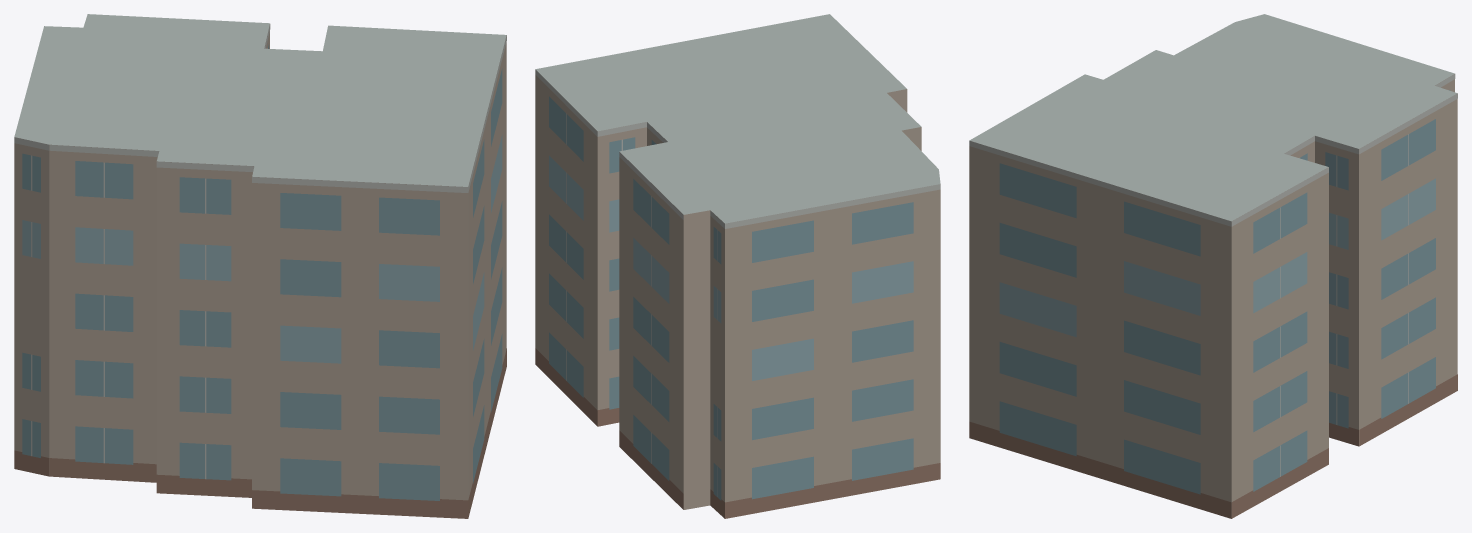
Rendered from survey-upis-32656892.glb.
3 renders of one model, left to right at view 1: azimuth 30°, elevation 25°; view 2: azimuth 150°, elevation 25°; view 3: azimuth 270°, elevation 25°, orthographic. The views are drawn at different scales.
Visible parts, largest first — view 1: survey-upis-32656892.tmp; view 2: survey-upis-32656892.tmp; view 3: survey-upis-32656892.tmp.
Part boxes in pixels (x1,y1,x2,y2): survey-upis-32656892.tmp: (14,14,506,518); survey-upis-32656892.tmp: (535,14,940,518); survey-upis-32656892.tmp: (969,14,1457,518).
Bounding box in the file's own units: 19.81 × 13.25 × 19.72.
